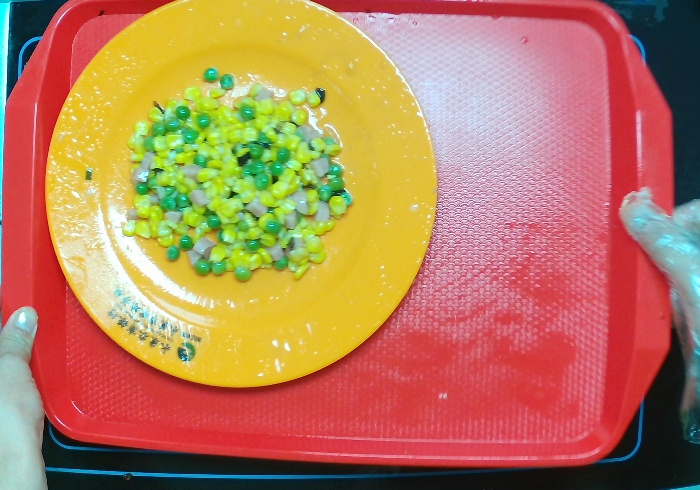YKMZ-Ju_Se_Mian_Pan: (43, 1, 439, 388)
